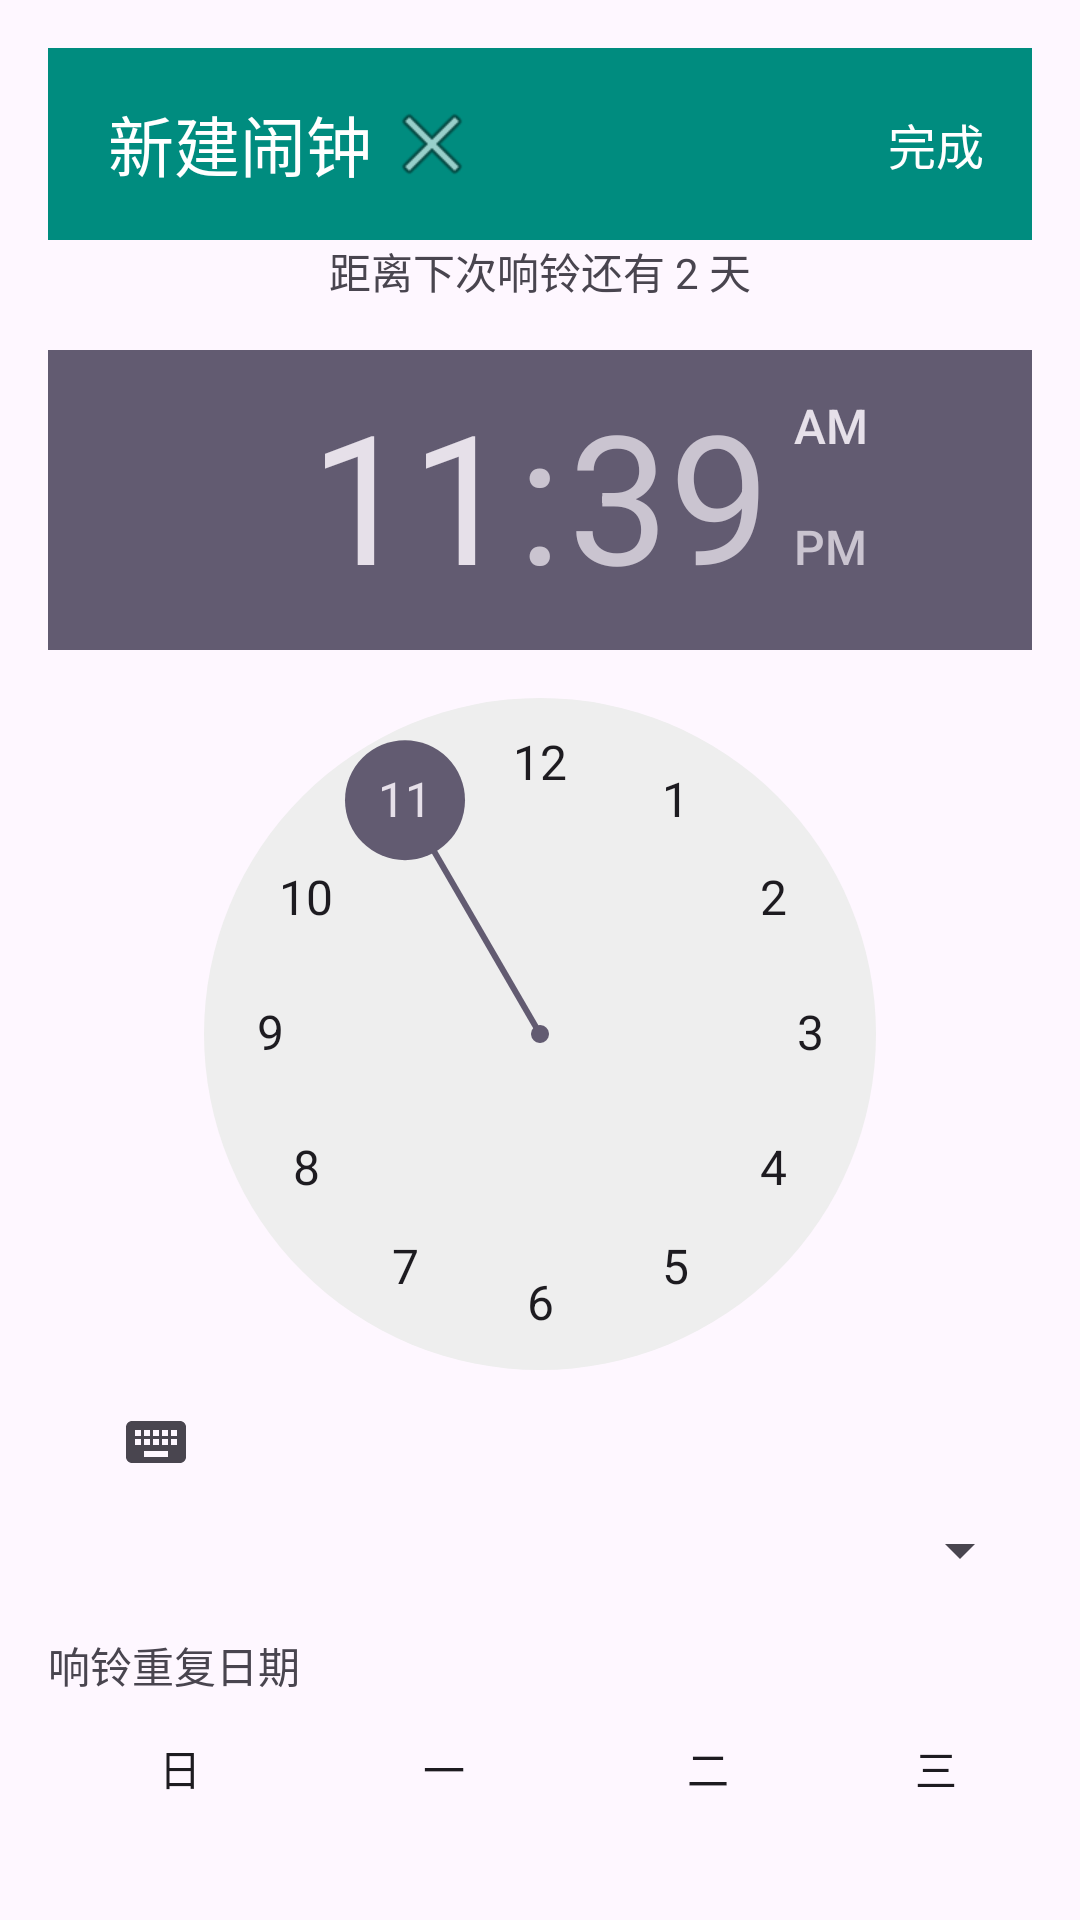

Where to tap for icons on this 1080w x 1920h app screen, as (x,y):
取消: (432,144)
